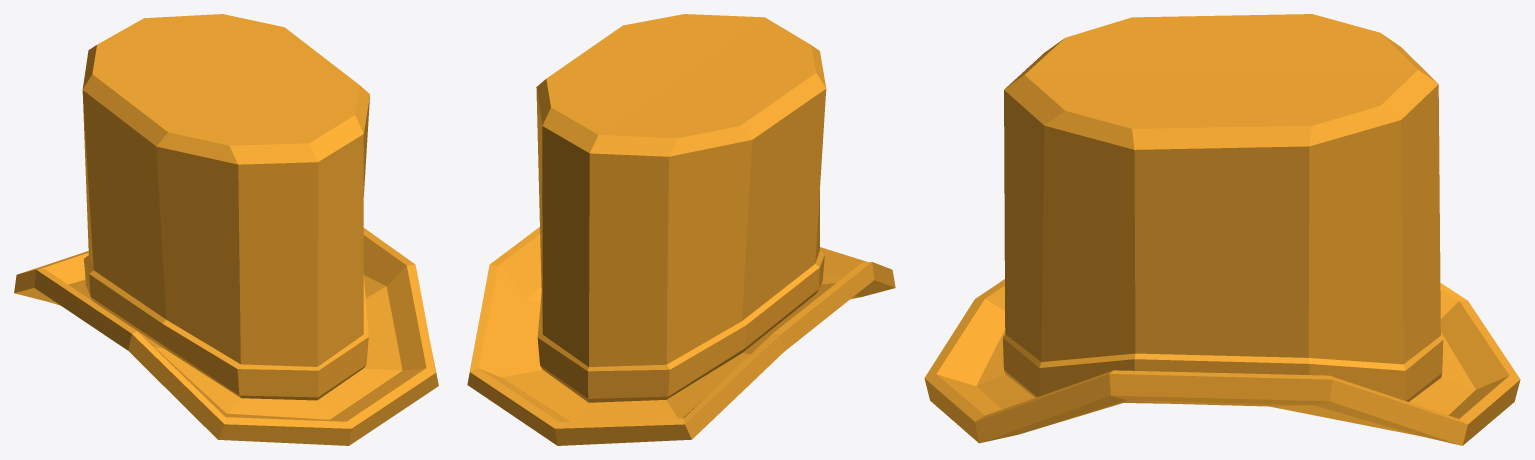
The model's file is SM_Cat_Tophat.fbx.
The picture shows the model from 3 angles, left to right: view 1: azimuth 30°, elevation 25°; view 2: azimuth 150°, elevation 25°; view 3: azimuth 270°, elevation 25°; orthographic projection. The views are drawn at different scales.
Visible parts, largest first — view 1: SM_Cat_Tophat; view 2: SM_Cat_Tophat; view 3: SM_Cat_Tophat.
Boxes of the visible parts, x1,y1,x2,y2 form: SM_Cat_Tophat: (14,14,438,445); SM_Cat_Tophat: (467,14,895,445); SM_Cat_Tophat: (924,14,1520,445).
Size of the model in its own units: 0.0372 by 0.0338 by 0.0548.
